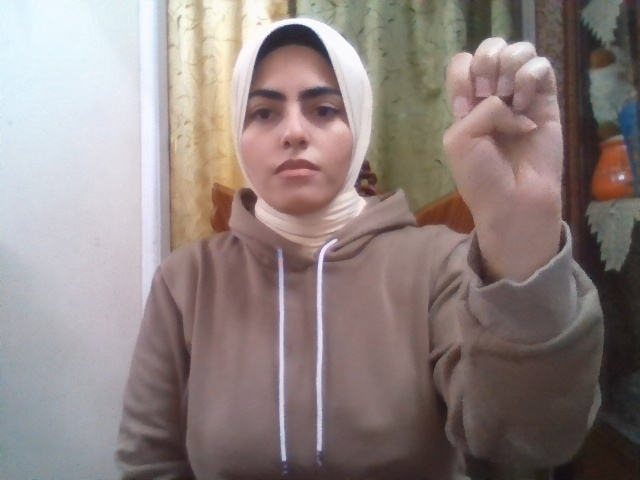E: (443, 38, 564, 232)
